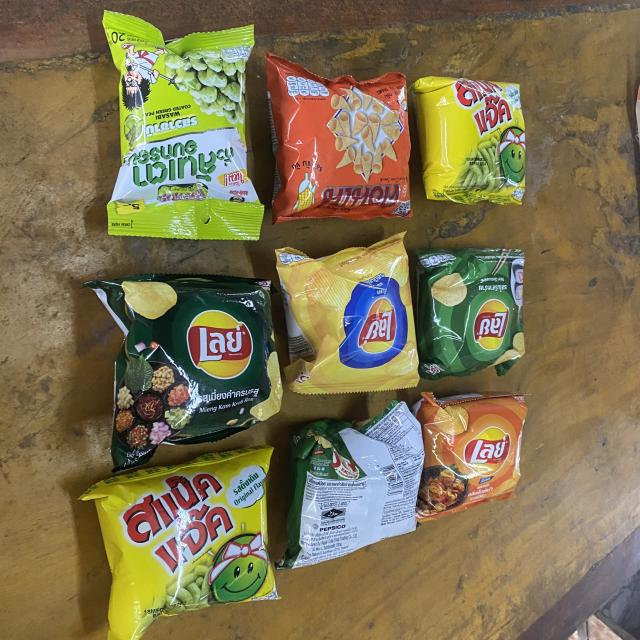plastik: (85, 274, 283, 473), (81, 446, 278, 640), (103, 11, 263, 239), (276, 400, 424, 570), (266, 54, 411, 224), (275, 233, 419, 394), (413, 392, 527, 522), (416, 248, 525, 381), (413, 76, 525, 204)
